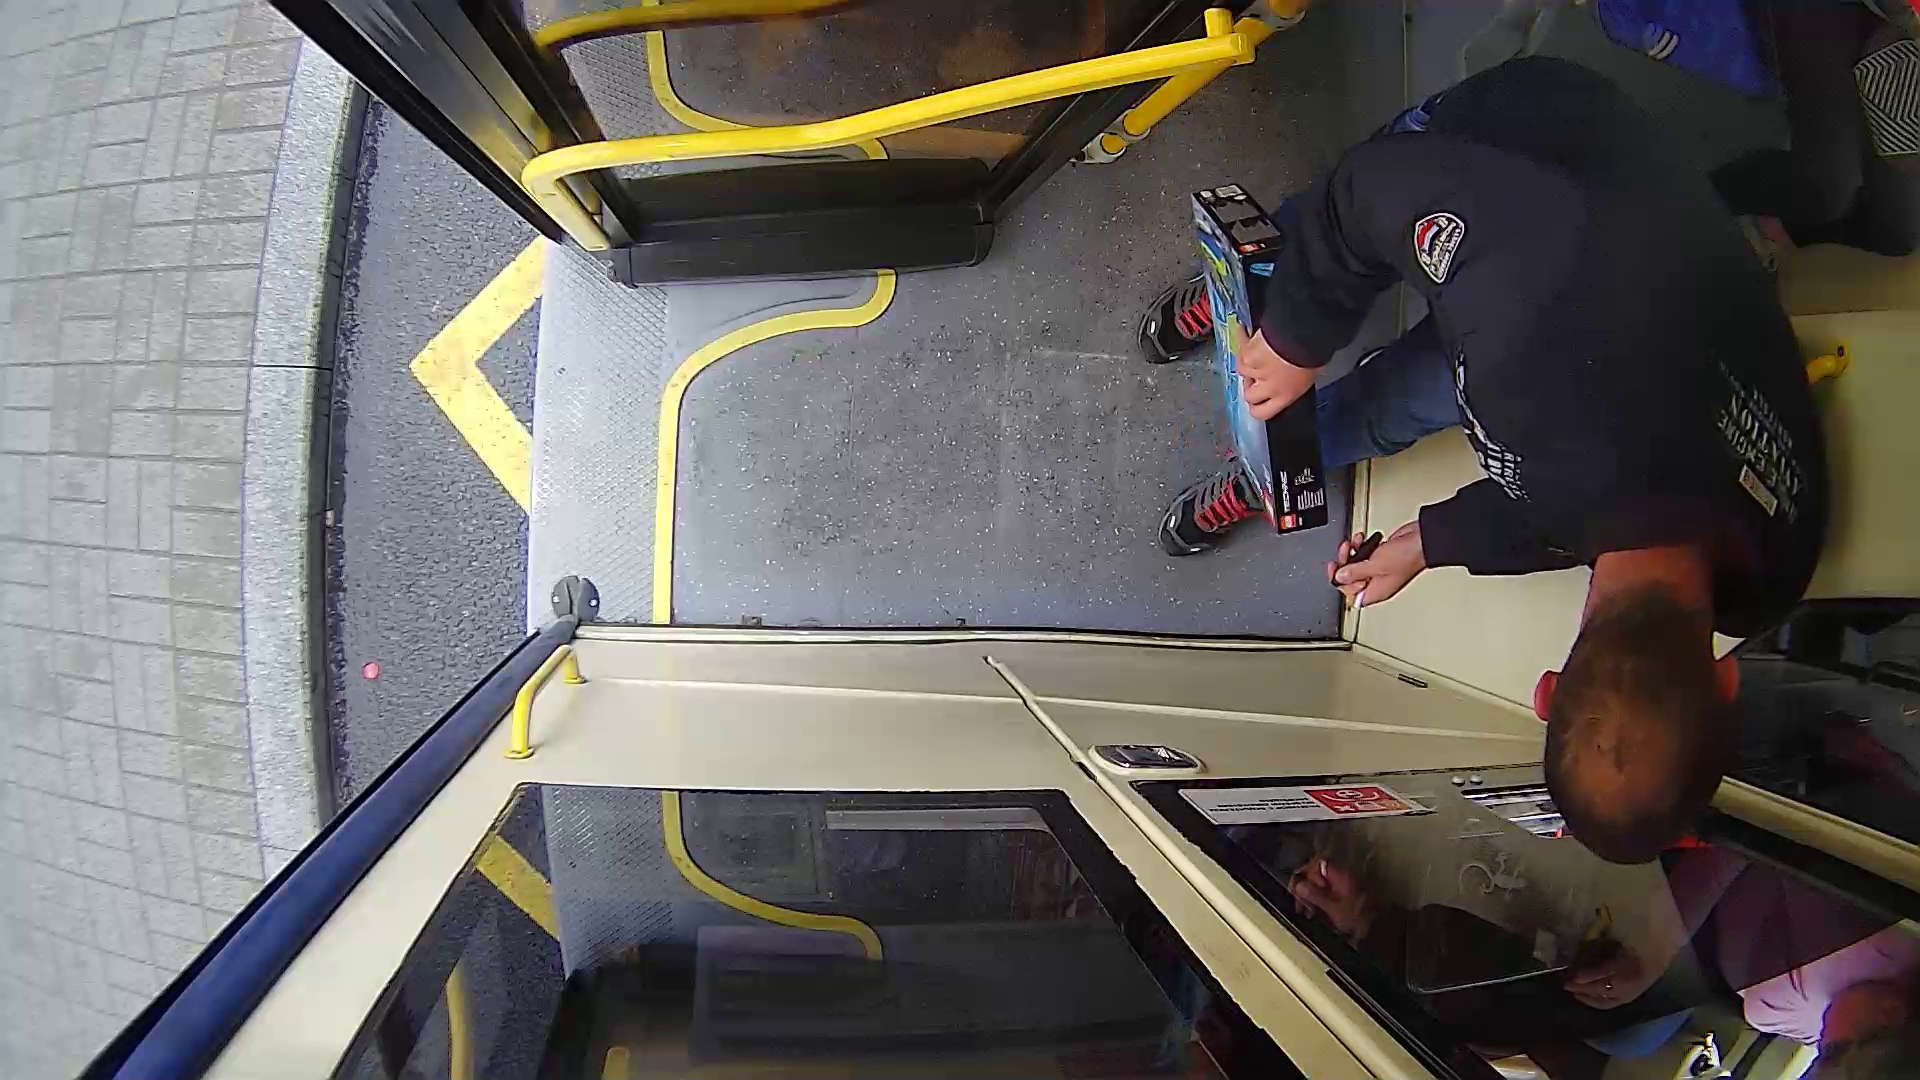person: (1127, 94, 1828, 853)
